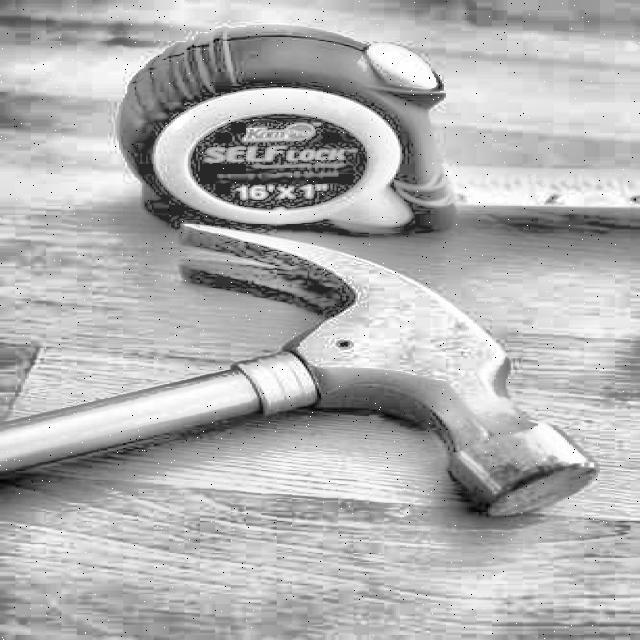hammer: (0, 221, 602, 529)
